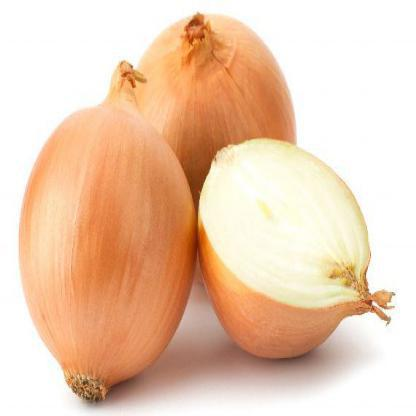onion: (40, 89, 206, 413), (206, 155, 376, 350), (148, 15, 294, 161)
